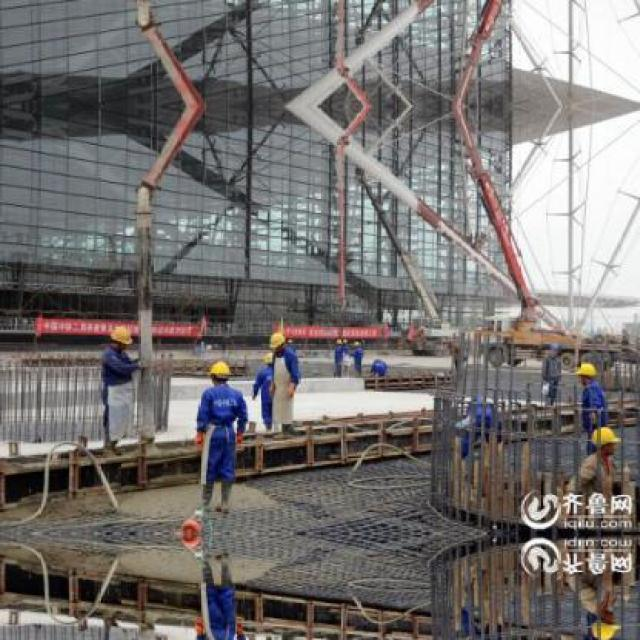helmet: (590, 421, 619, 460), (589, 604, 620, 637), (204, 358, 236, 387), (108, 323, 135, 351), (574, 356, 598, 384), (267, 328, 290, 352), (258, 348, 277, 368)
